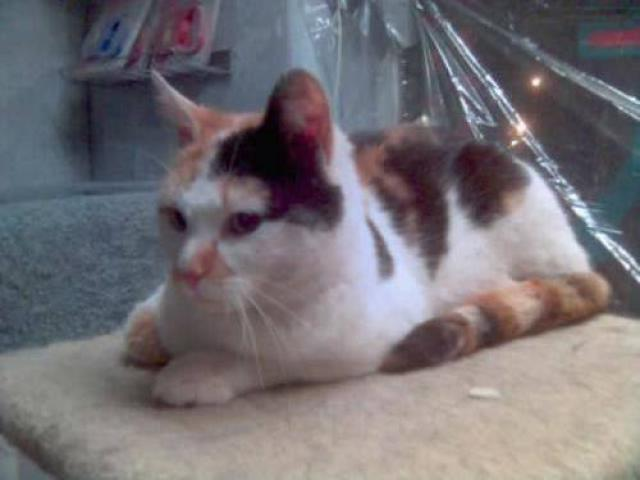cat: (118, 62, 612, 405)
